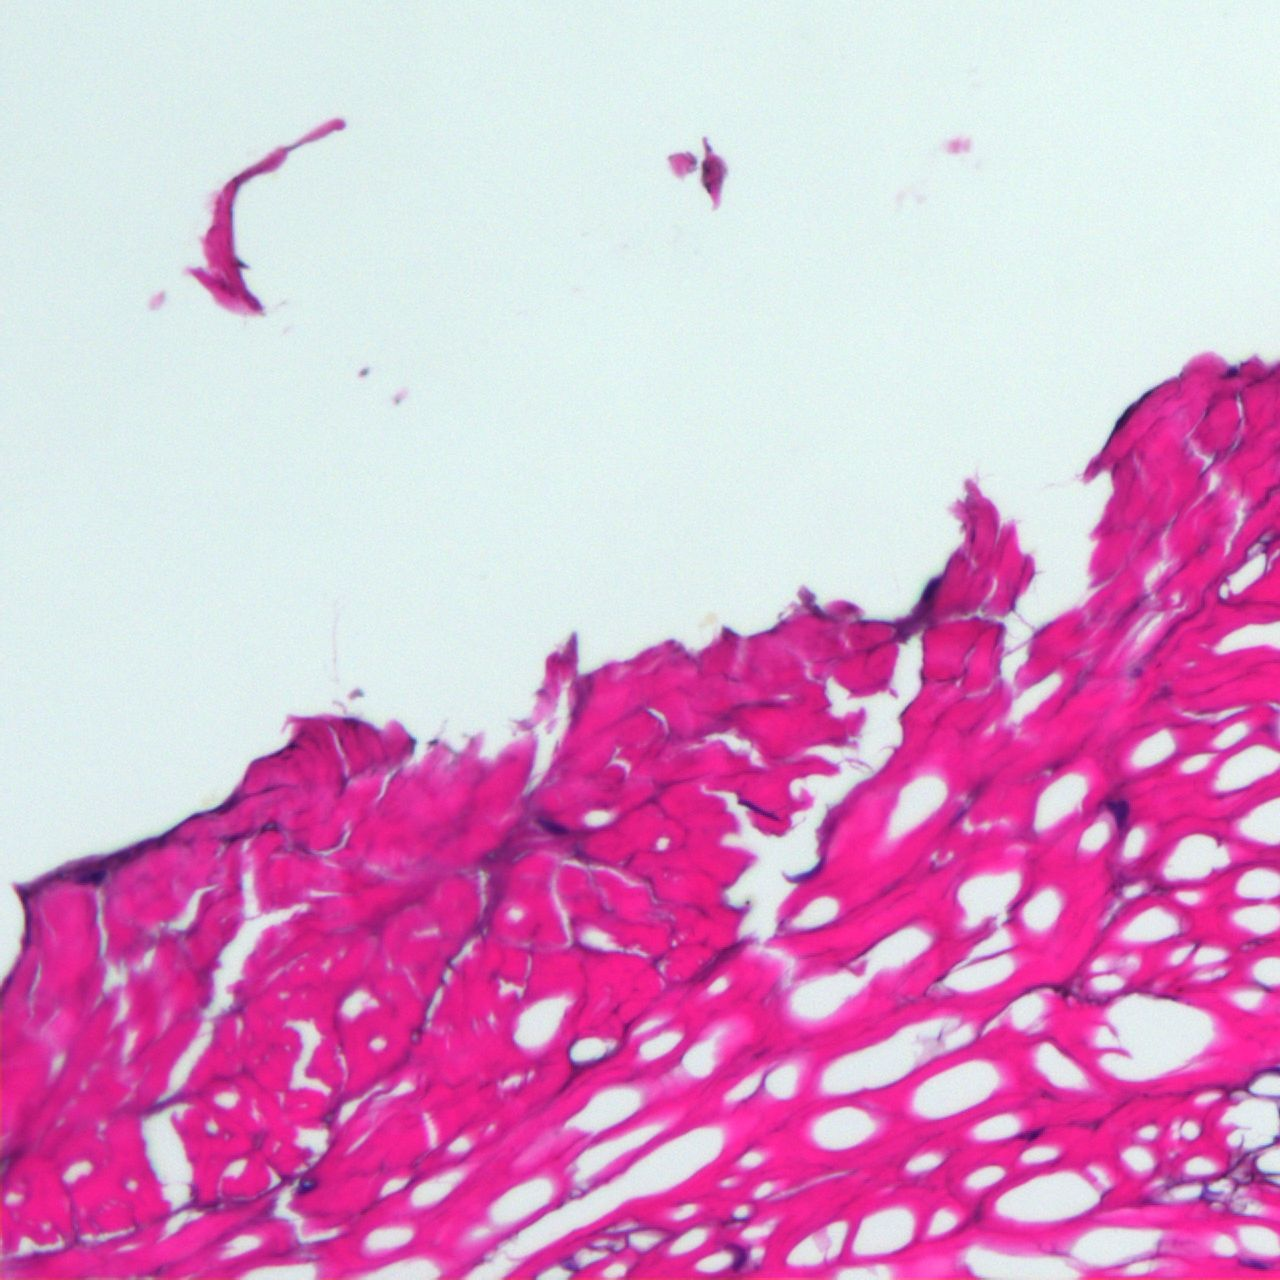nucleus-HE: (1108, 797, 1132, 822), (919, 577, 940, 602), (79, 869, 105, 888), (1027, 1128, 1040, 1141), (302, 1179, 313, 1190)
